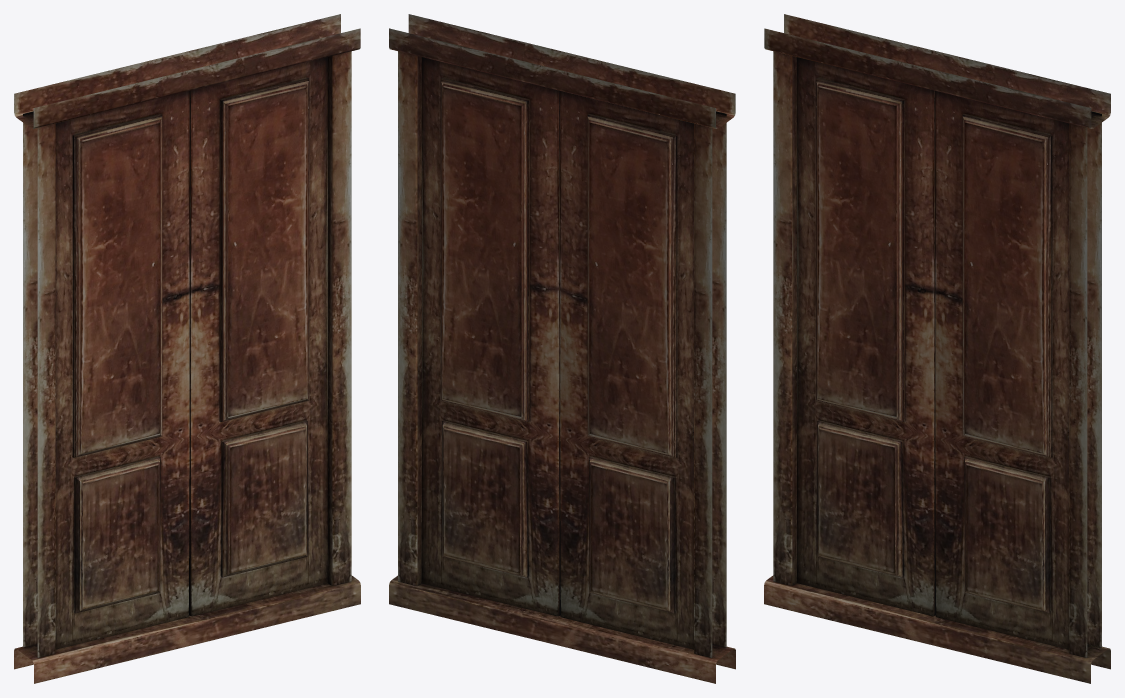
The model's file is dubel_door.gltf.
3 renders of one model, left to right at view 1: azimuth 30°, elevation 25°; view 2: azimuth 150°, elevation 25°; view 3: azimuth 330°, elevation 25°, orthographic.
Visible parts, largest first — view 1: righet_door, ldeft_door, frinme_door; view 2: righet_door, ldeft_door, frinme_door; view 3: ldeft_door, righet_door, frinme_door.
Boxes of the visible parts, left/top/right/bottom form: righet_door: left=189, top=57, right=327, bottom=616; ldeft_door: left=55, top=91, right=189, bottom=649; frinme_door: left=14, top=14, right=360, bottom=683; righet_door: left=421, top=57, right=560, bottom=616; ldeft_door: left=560, top=91, right=693, bottom=649; frinme_door: left=389, top=14, right=735, bottom=683; ldeft_door: left=797, top=57, right=935, bottom=616; righet_door: left=935, top=91, right=1069, bottom=649; frinme_door: left=764, top=14, right=1110, bottom=683.
Bounding box in the file's own units: 1.82 × 3.07 × 0.1919.
Materials: 1 (1 with a texture image).
